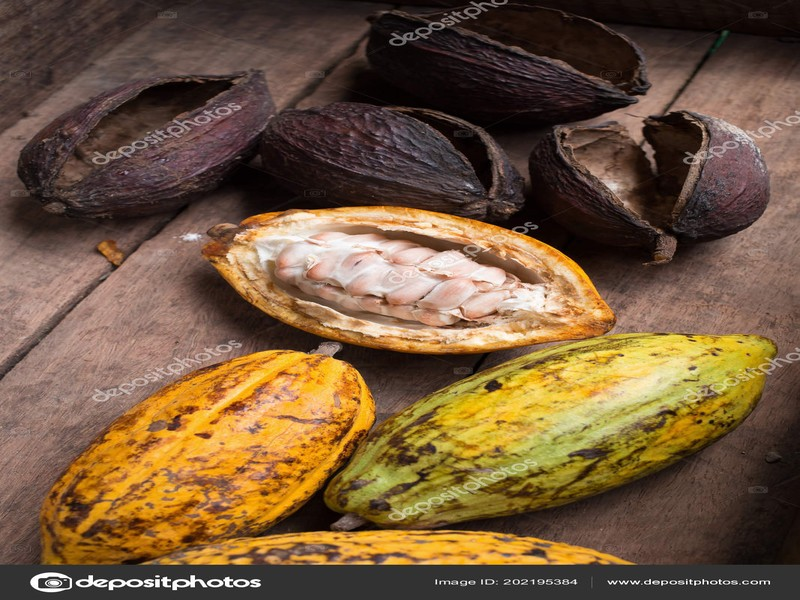Cacaopod: (324, 332, 779, 532), (39, 339, 378, 579)
